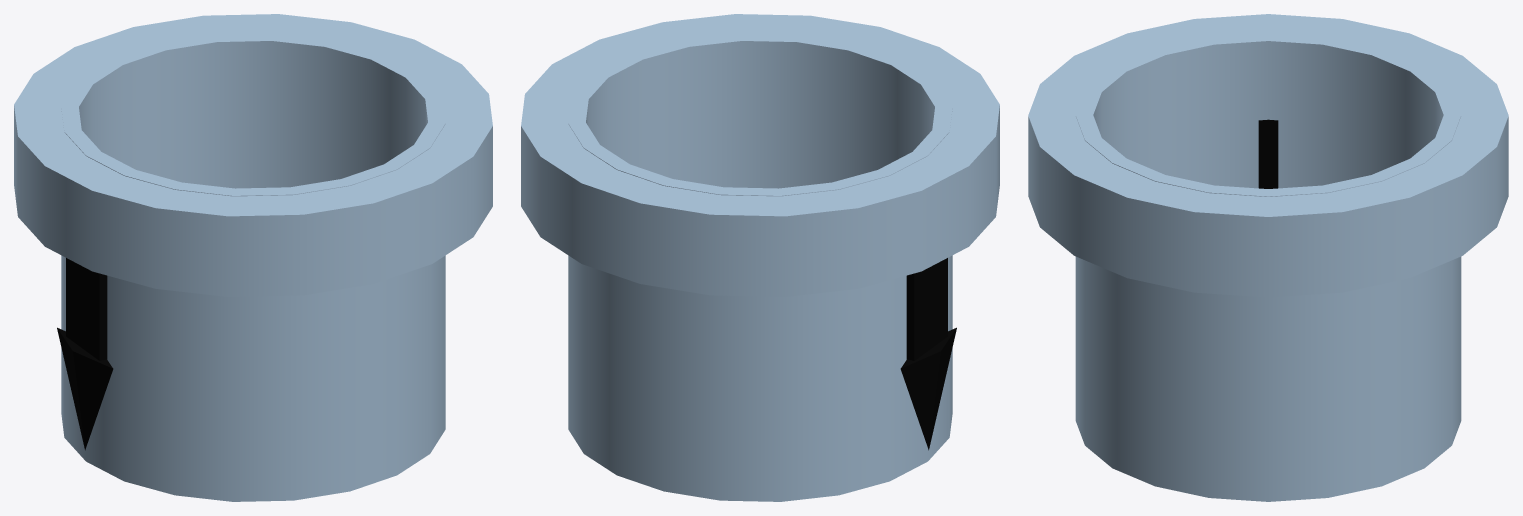
The model's file is Tunnel-Start.fbx.
3 views of the same model, side by side, from view 1: azimuth 30°, elevation 25°; view 2: azimuth 150°, elevation 25°; view 3: azimuth 270°, elevation 25° (orthographic).
Parts seen in each view (by area): view 1: pCylinder1, pCylinder2, pCube1, pCone1; view 2: pCylinder1, pCylinder2, pCube1, pCone1; view 3: pCylinder1, pCylinder2, pCube1.
Part boxes in pixels (box(x1,y1,x2,y2)): pCylinder1: box(61, 33, 445, 501); pCylinder2: box(14, 14, 492, 296); pCube1: box(66, 258, 107, 360); pCone1: box(57, 327, 113, 450); pCylinder1: box(568, 33, 952, 501); pCylinder2: box(521, 14, 999, 296); pCube1: box(906, 258, 947, 360); pCone1: box(900, 327, 956, 450); pCylinder1: box(1075, 33, 1461, 501); pCylinder2: box(1028, 14, 1508, 297); pCube1: box(1258, 119, 1278, 188).
Size of the model in its own units: 4.81 by 3.37 by 4.81.
